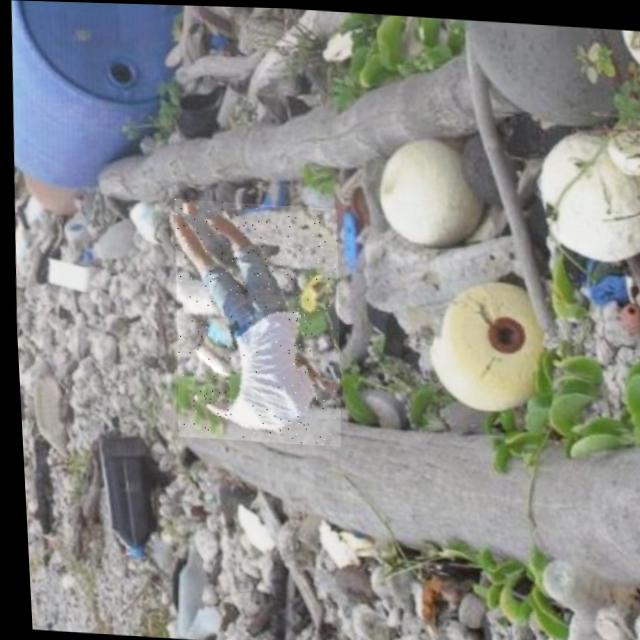Person in Rubble: (164, 196, 344, 444)
